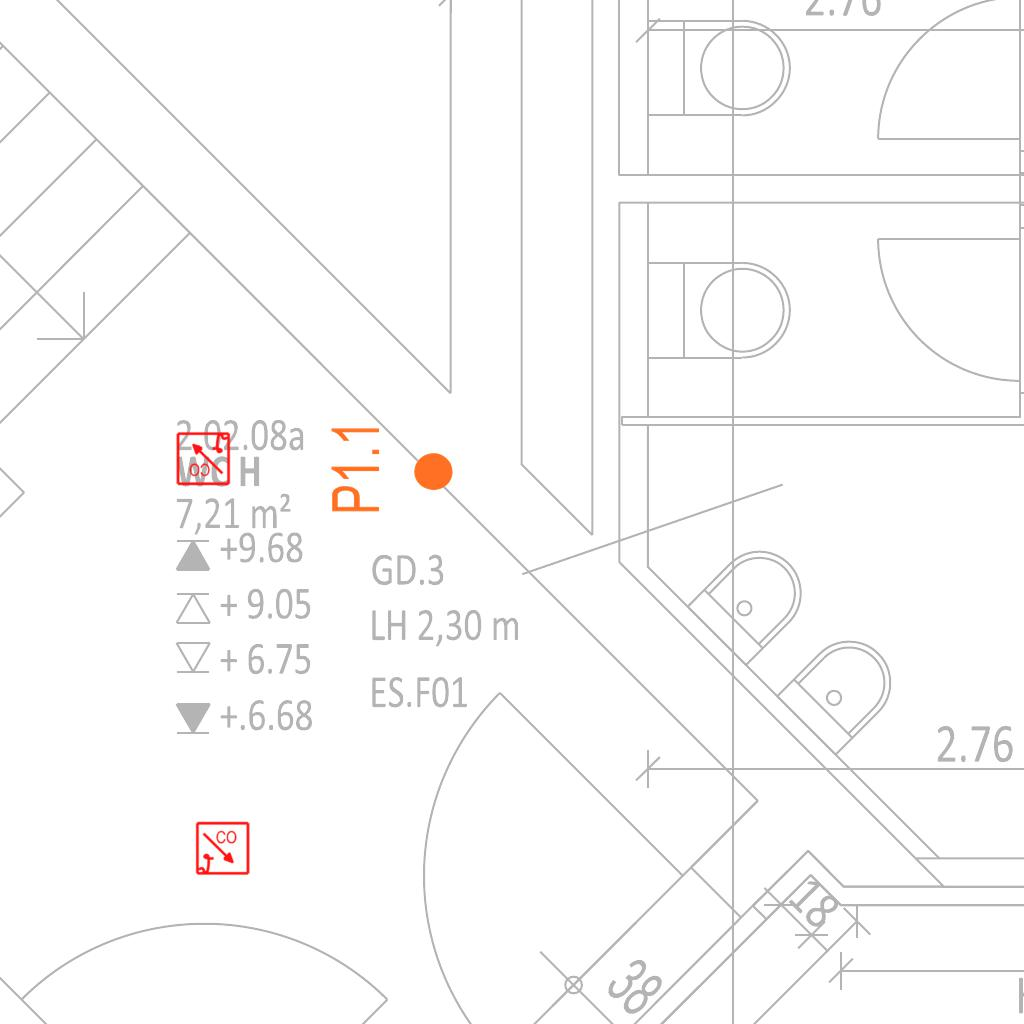Downlight_LED_Einbauleuchten_Flur: (328, 422, 456, 515)
ROA_Rauchmelder_optisch_mit_Signalgeber_(Sockelsirene): (175, 430, 231, 486), (195, 821, 251, 877)
